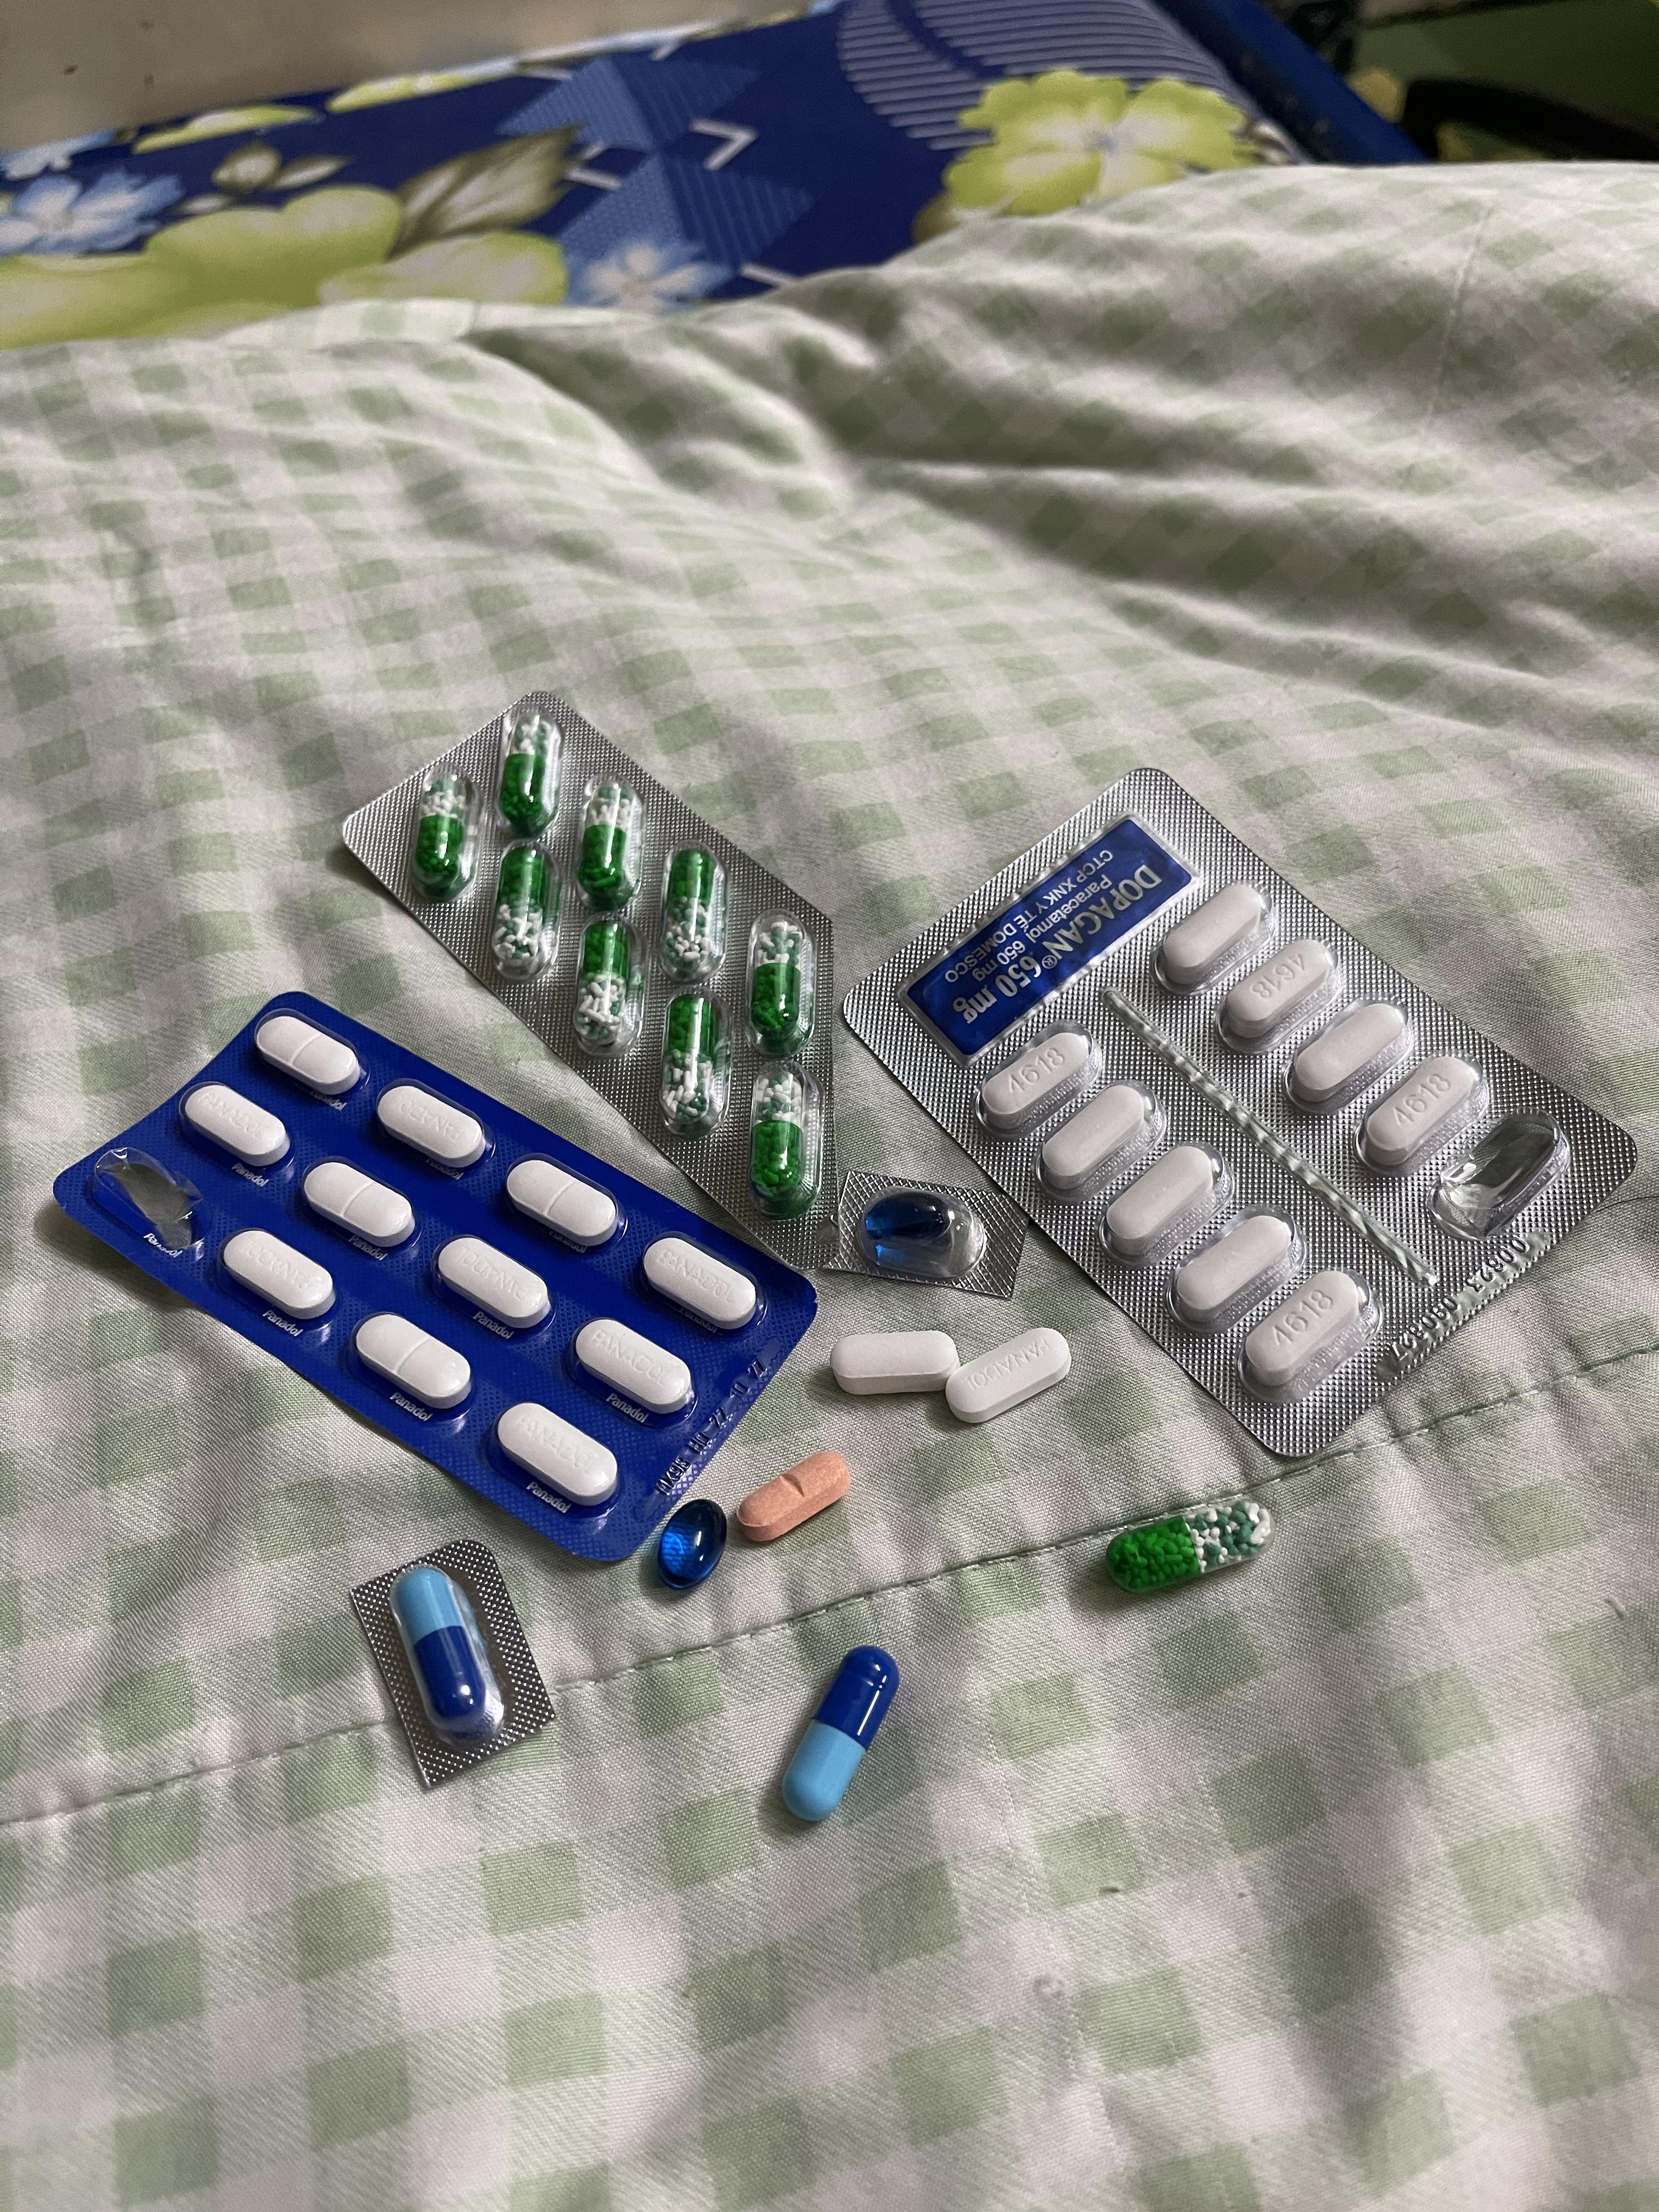Lincomyxin_500mg: (655, 1498, 728, 1587), (866, 1197, 946, 1242)
Loratadine_10mg: (737, 1446, 840, 1538)
Paracetamol_350mg: (498, 1402, 619, 1505), (945, 1329, 1070, 1425), (573, 1315, 694, 1413), (643, 1237, 762, 1334), (357, 1313, 472, 1409), (223, 1228, 336, 1324), (507, 1155, 622, 1249), (436, 1235, 551, 1329), (301, 1160, 415, 1249), (378, 1083, 491, 1172), (181, 1083, 291, 1170), (256, 1012, 364, 1099)
Paracetamol_500mg: (1246, 1278, 1375, 1413), (1356, 1050, 1483, 1170), (1105, 1139, 1227, 1263), (1176, 1211, 1302, 1327), (1037, 1082, 1157, 1202), (1290, 1000, 1408, 1115), (1155, 883, 1274, 995), (978, 1028, 1093, 1139), (1220, 934, 1331, 1045), (830, 1329, 951, 1393)
Paracetamol_650mg: (1105, 1498, 1274, 1592), (572, 923, 647, 1057), (749, 1059, 812, 1212), (660, 996, 727, 1139), (575, 780, 641, 913), (748, 914, 812, 1050), (660, 848, 727, 979), (490, 845, 552, 979), (411, 773, 476, 902), (497, 711, 563, 836)
pill: (390, 1568, 505, 1747), (781, 1644, 896, 1818)
